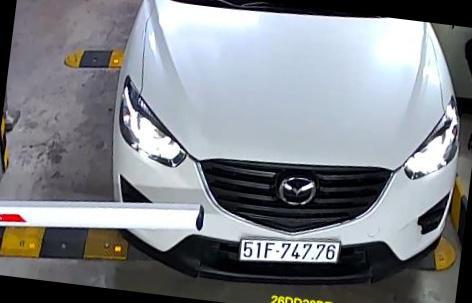License_Plate: (236, 233, 350, 270)
